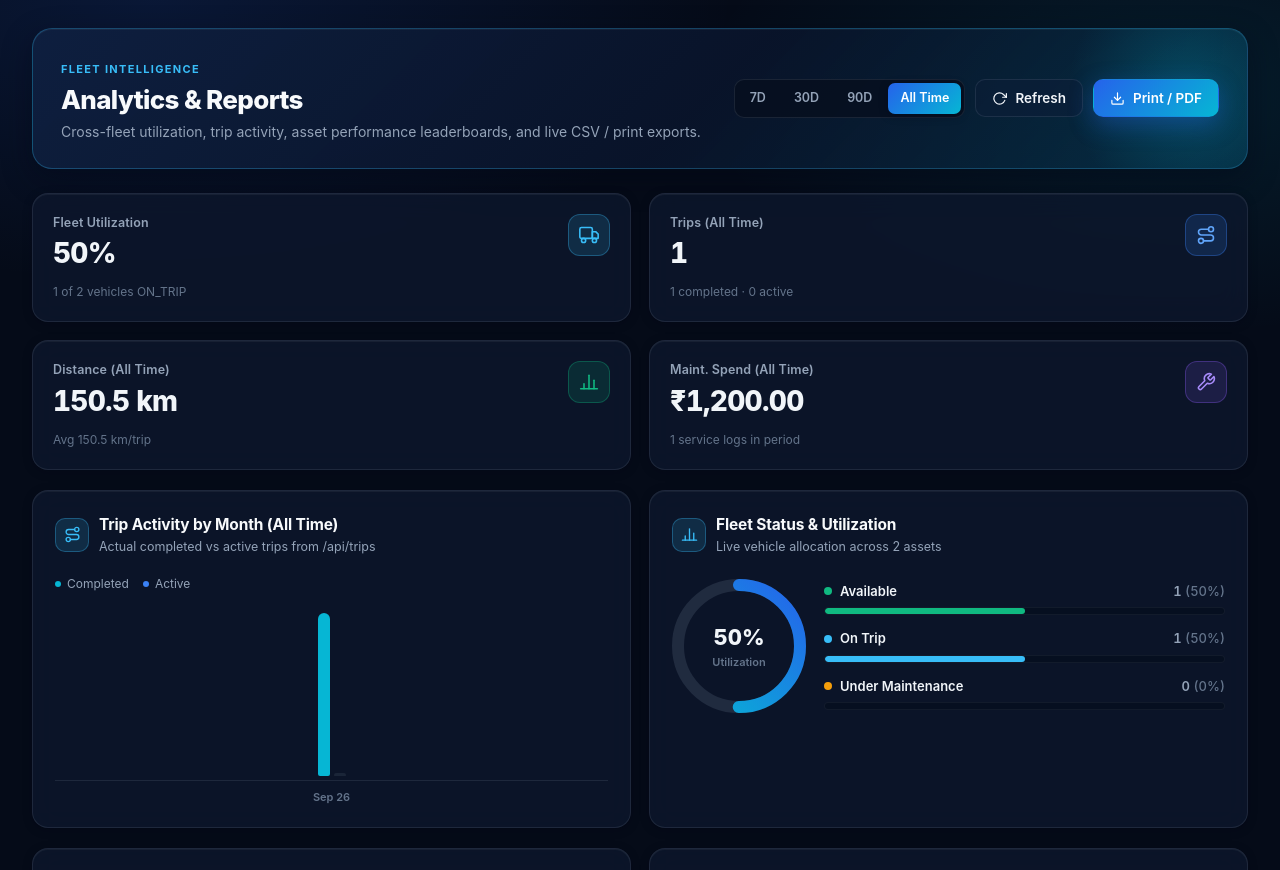
Scenario: P5-3 — AnalyticsReportsPage computes real utilization, timeframe filters, leaderboards, CSV export & print
Later steps or results of the test are not shown.
// Switch timeframe to 7D (historical Sep 2026 trip should be excluded honestly)
What coordinates should you click on to do the following:
click the tab "7D"
I would click on:
 (758, 98)
Its box is left=738, top=83, right=778, bottom=114.
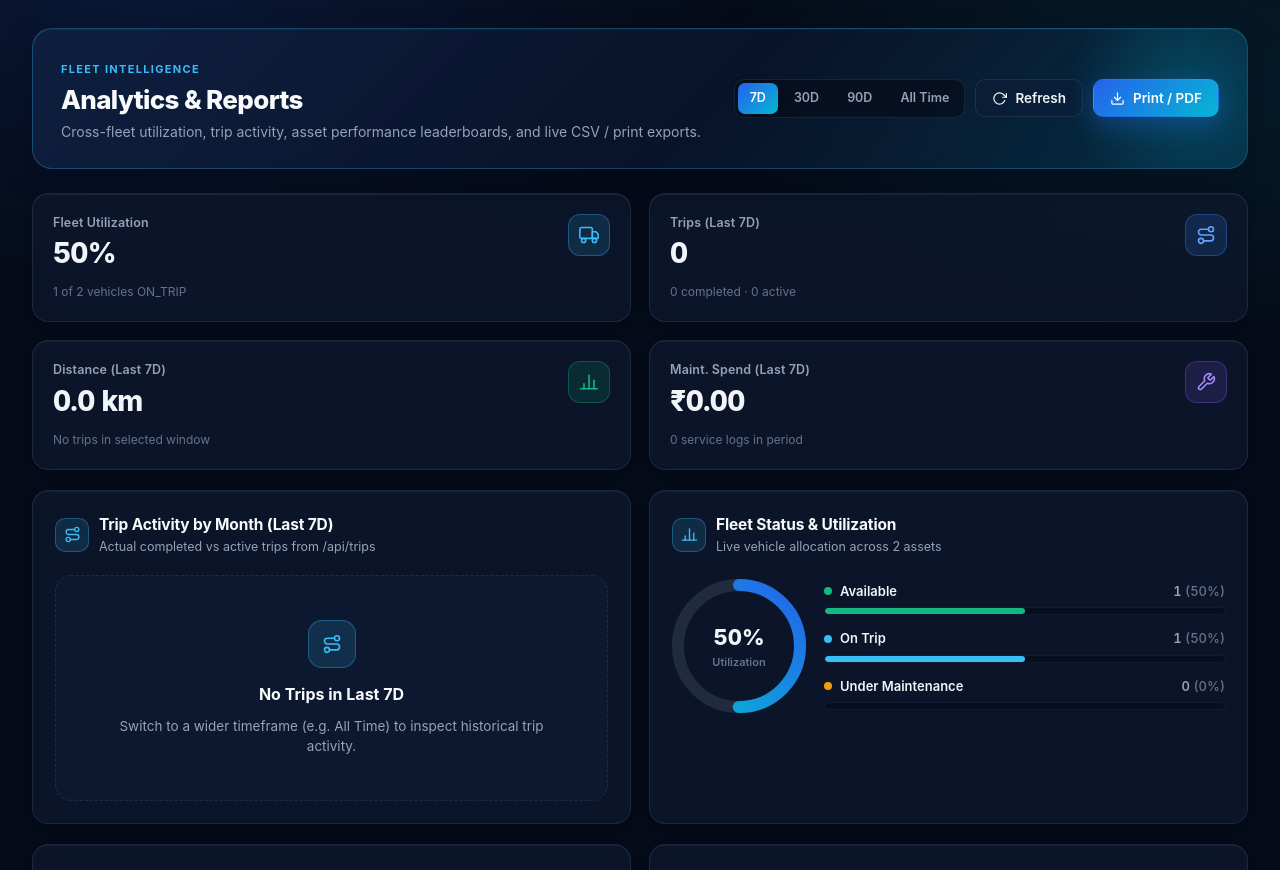
expect the heading "No Trips in Last 7D" is shown: met, box left=259, top=682, right=404, bottom=706
// Switch back to All Time & test CSV export + Print/PDF
What coordinates should you click on to do the following:
click the tab "All Time"
I would click on:
 (925, 98)
Its box is left=888, top=83, right=961, bottom=114.
(page scrolled)
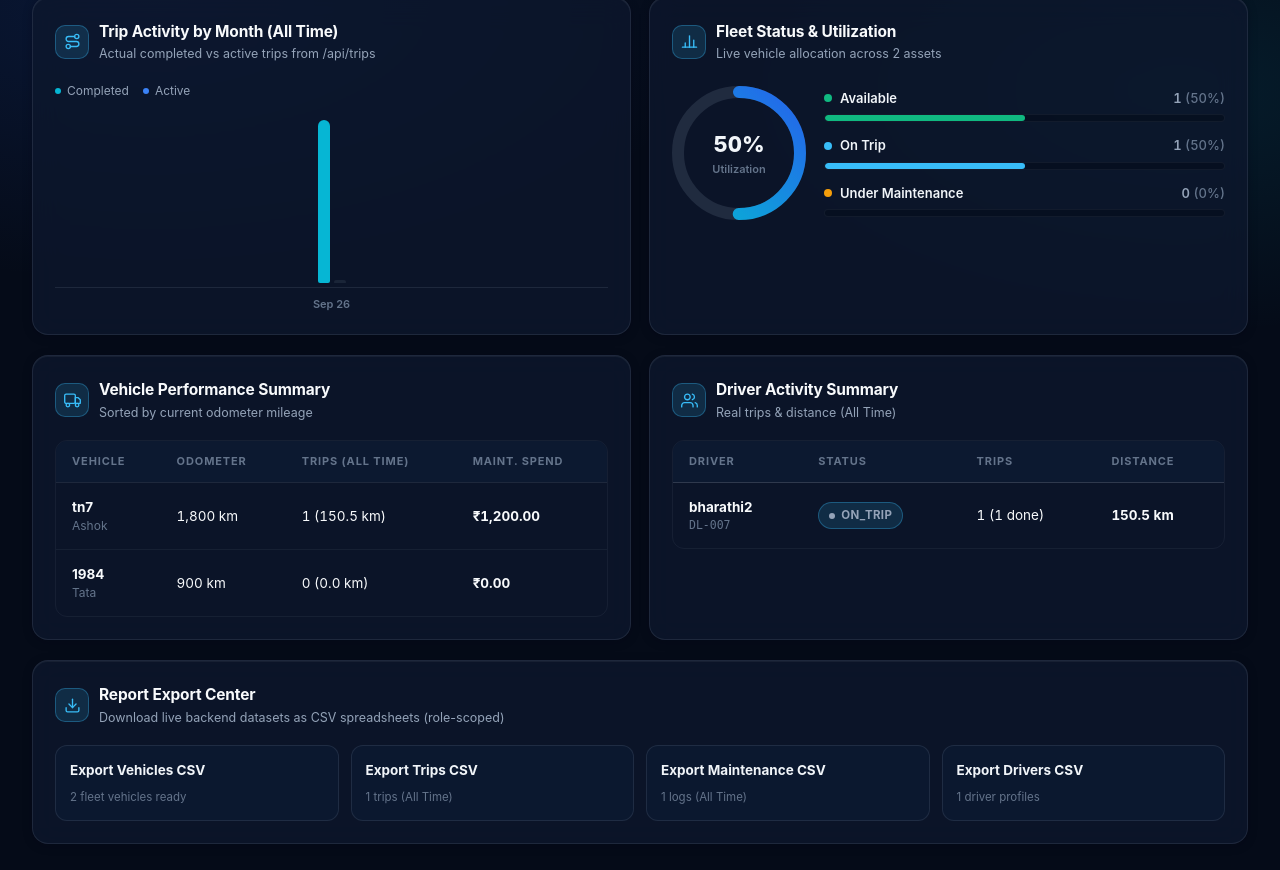
expect the heading "Trip Activity by Month (All Time)" is shown: met, box left=99, top=20, right=376, bottom=43
